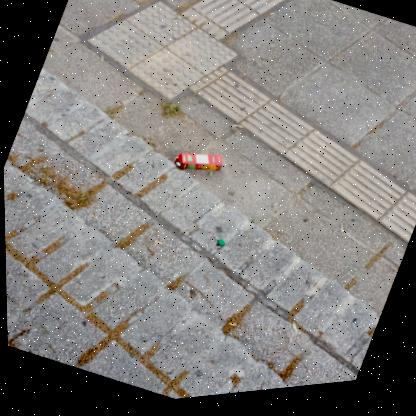Paper: (172, 156, 221, 175)
Waste: (152, 243, 161, 248), (216, 244, 223, 250), (226, 327, 234, 331), (268, 18, 273, 20)
